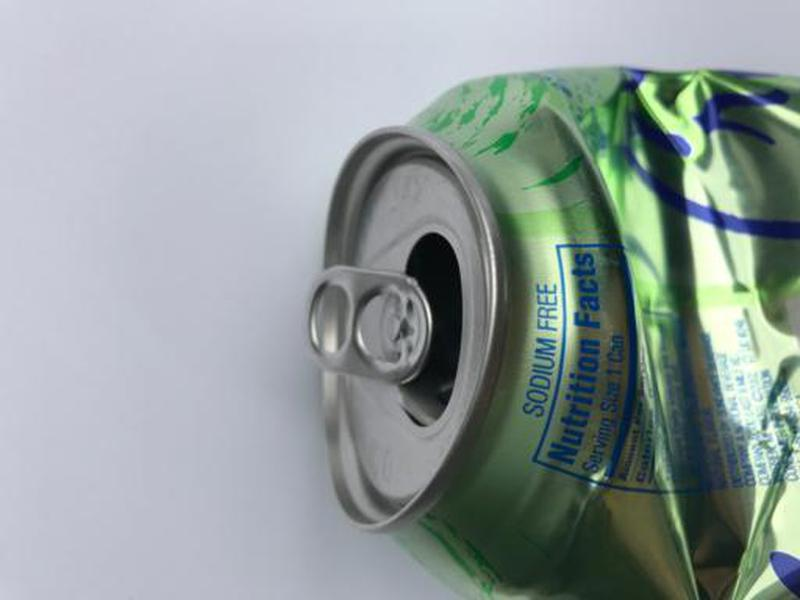can: (294, 60, 800, 600)
